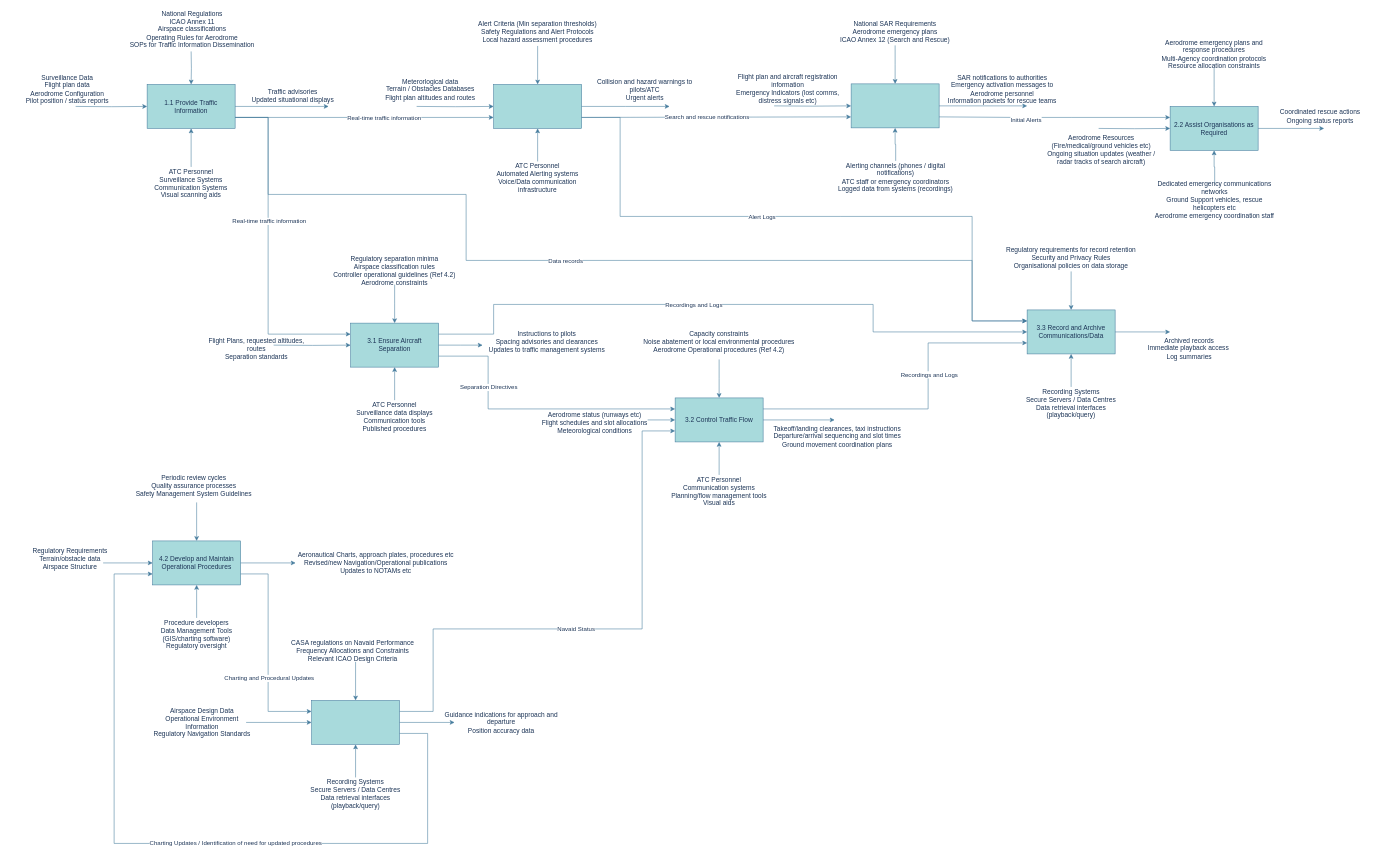
Some shapes in this 1387 by 857 pixel diagram are drawn without their labels. Each missing label, with the centre of its shape:
1.2 Provide Safety Alerts: [537,106]
2.1 Notify Search and Rescue (SAR) Organisations: [895,105]
4.1 Provide Navigational Guidance: [355,722]
